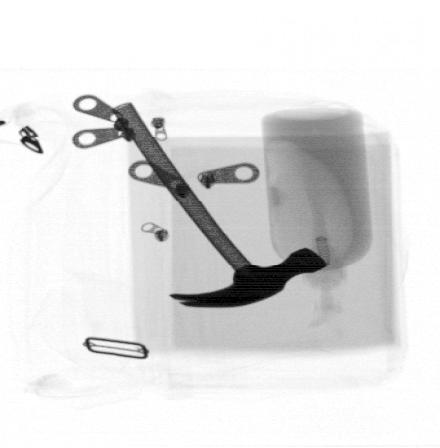Hammer: (112, 102, 327, 308)
